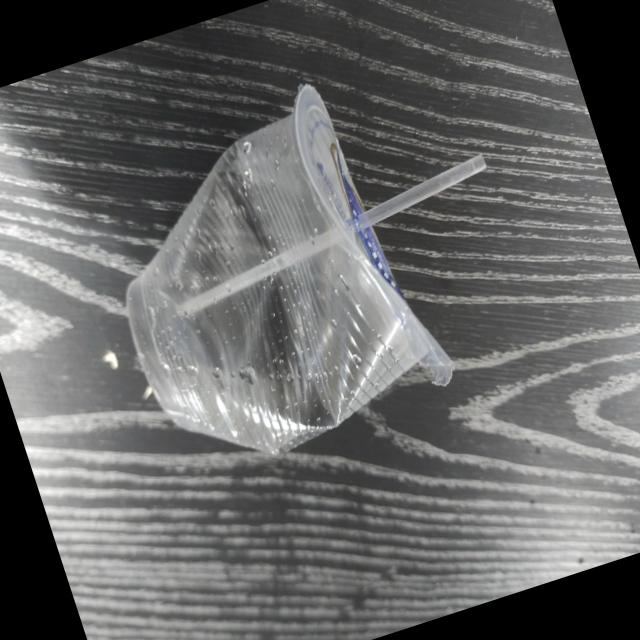GelasPlastik: (50, 25, 572, 519)
